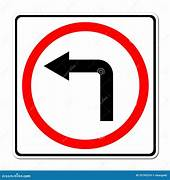left: (22, 23, 150, 148)
